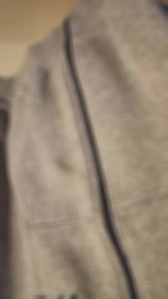oil: (51, 153, 70, 172)
